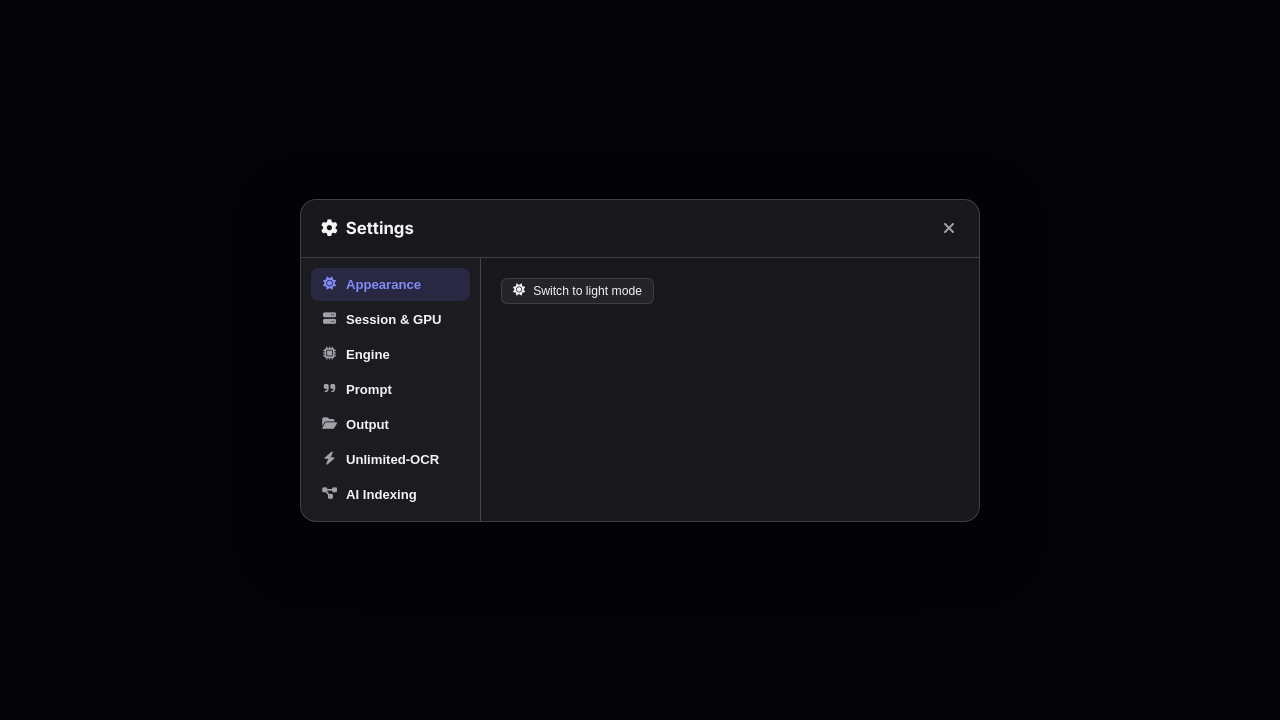
SettingsModal — idle/GPU status › renders "GPU: Idle" when online but the model is not loaded
The image size is (1280, 720).
What coordinates should you click on to do the following:
click the button with test id "settings-nav-session"
I would click on:
 (390, 319)
Its box is [311, 302, 470, 336].
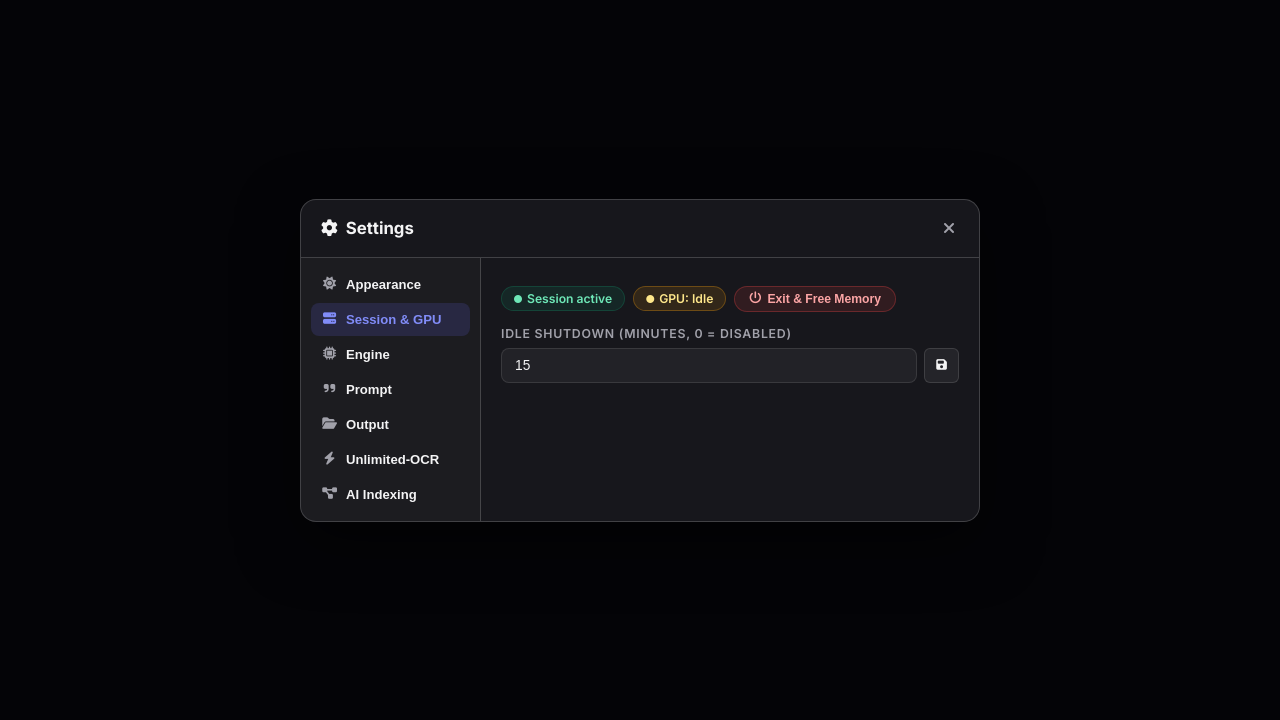
Result: the element with test id "gpu-status-pill" reads "GPU: Idle" at [659, 291, 713, 306]
